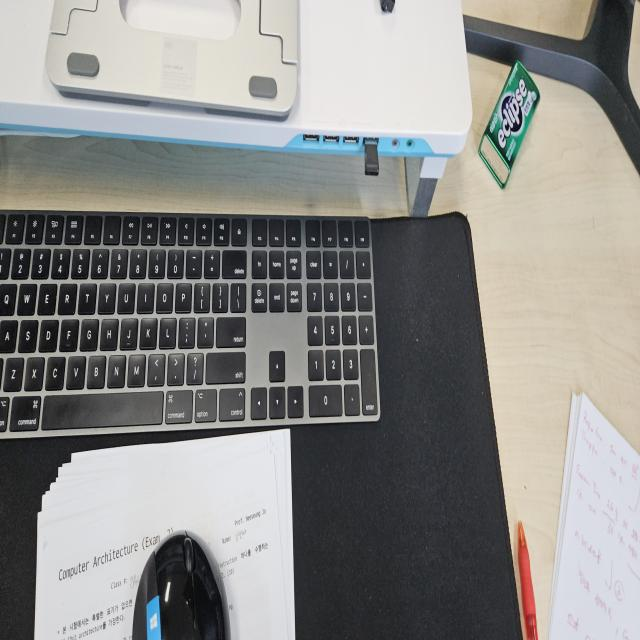Keyboard: (1, 208, 382, 440)
Mouse: (130, 528, 232, 637)
